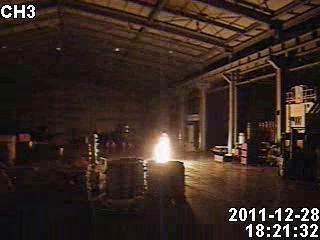fire: (147, 129, 176, 164)
